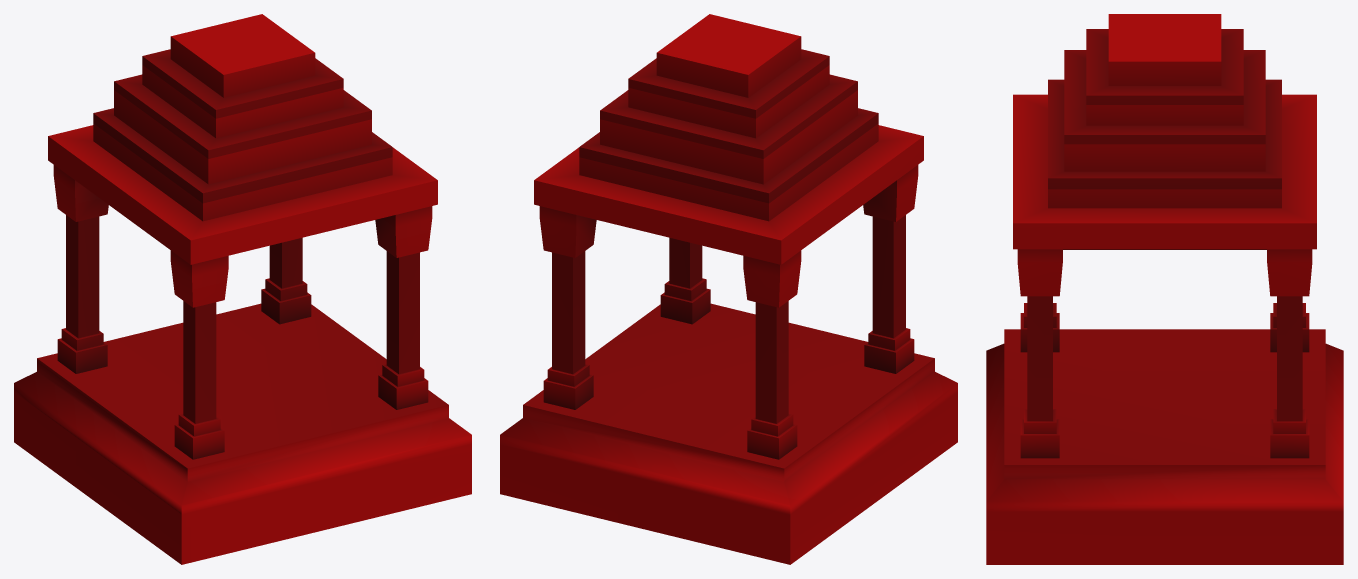
Rendered from buildings-ruins-templeruins_v12.fbx.
3 views of the same model, side by side, from view 1: azimuth 30°, elevation 25°; view 2: azimuth 150°, elevation 25°; view 3: azimuth 270°, elevation 25° (orthographic). The views are drawn at different scales.
Visible parts, largest first — view 1: TempleRuins_v12; view 2: TempleRuins_v12; view 3: TempleRuins_v12.
Part boxes in pixels (x1=…): TempleRuins_v12: x1=14, y1=14, x2=471, y2=564; TempleRuins_v12: x1=500, y1=14, x2=957, y2=564; TempleRuins_v12: x1=986, y1=14, x2=1343, y2=564.
Bounding box in the file's own units: 6.98 × 9.73 × 6.98.
